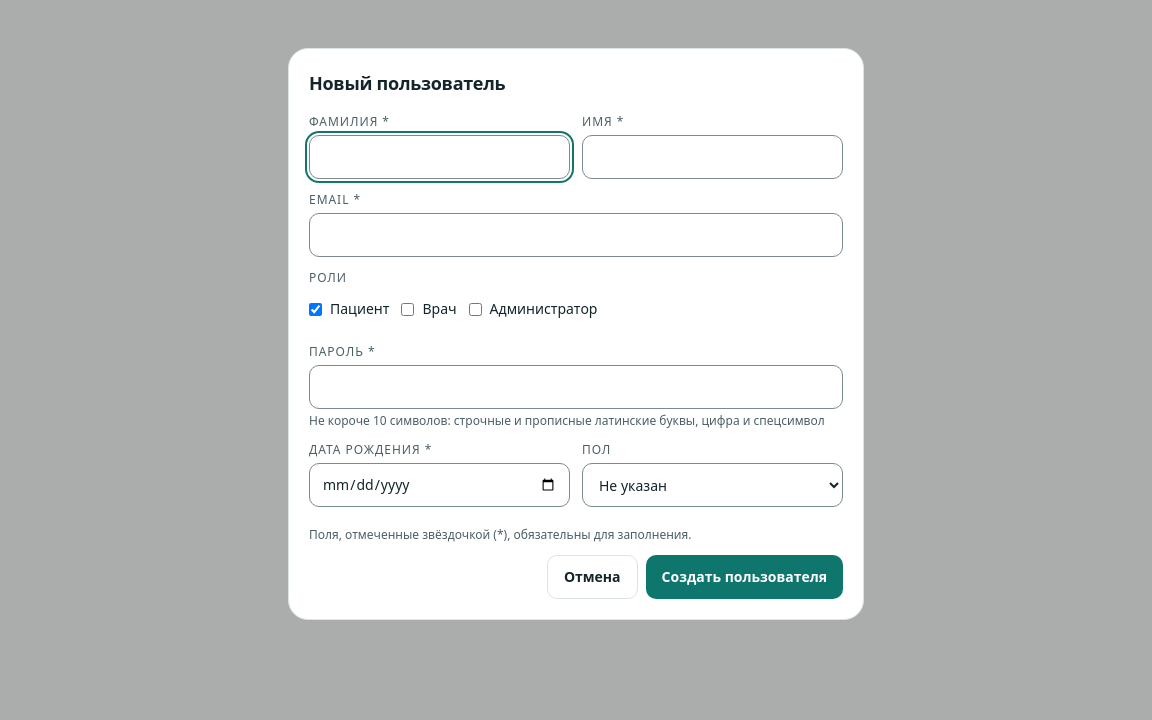
Test: UserFormDialog (create) › should ask for the birth date only when the PATIENT role is chosen
Expected: the date field labelled "Дата рождения *" is shown, left=309, top=463, right=570, bottom=507
Click the checkbox labelled "Пациент". click: (316, 309)
box: left=309, top=302, right=322, bottom=316
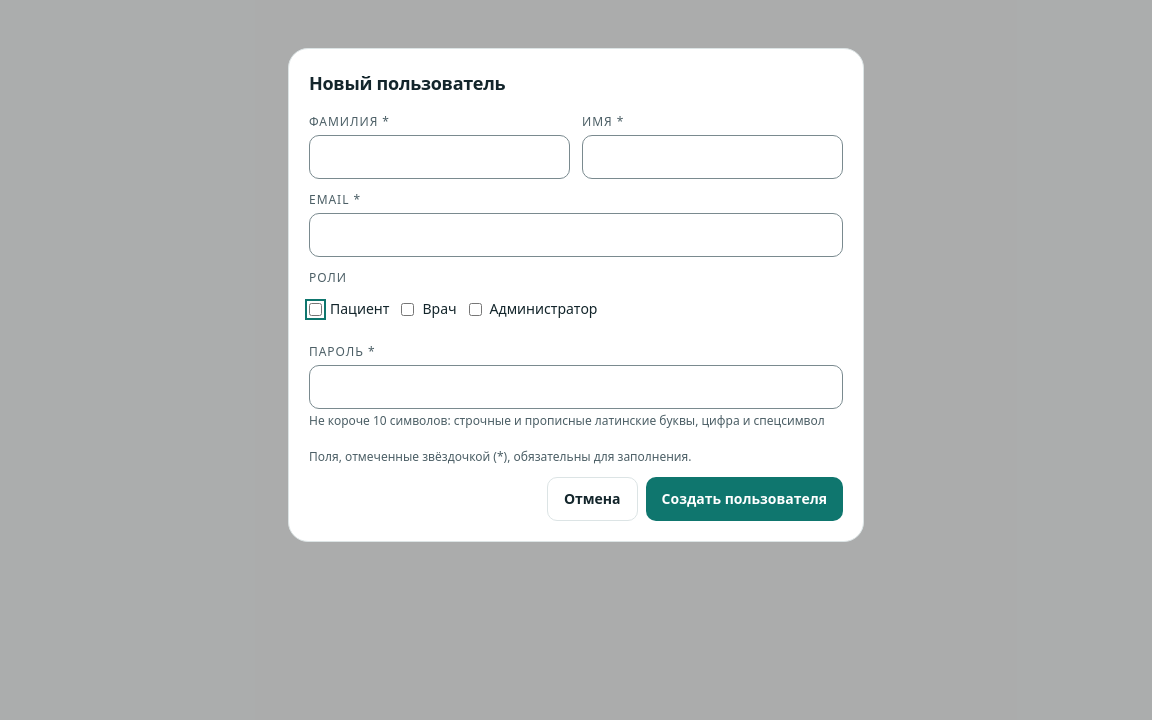
Now the label labelled "Дата рождения" is gone
